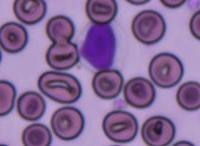L: (77, 22, 125, 72)
